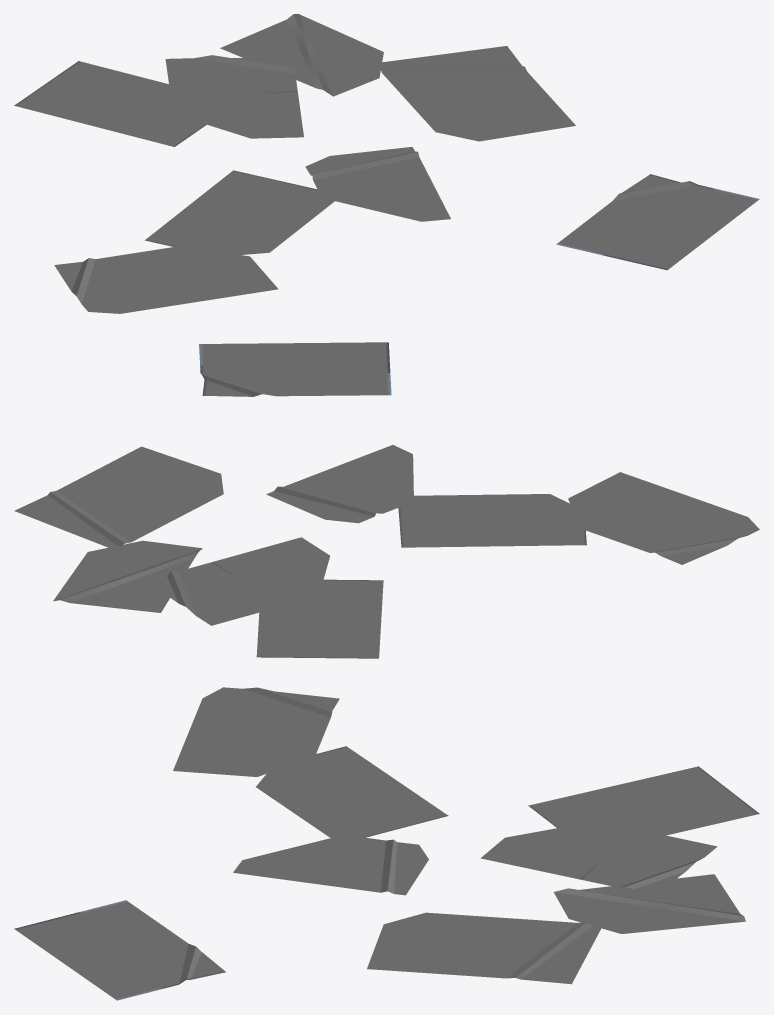
Rendered from SM_Gen_Prop_Papers_05.glb.
3 renders of one model, top to bottom at view 1: azimuth 30°, elevation 25°; view 2: azimuth 150°, elevation 25°; view 3: azimuth 270°, elevation 25°, orthographic. The views are drawn at different scales.
Parts seen in each view (by area): view 1: SM_Gen_Prop_Papers_05; view 2: SM_Gen_Prop_Papers_05; view 3: SM_Gen_Prop_Papers_05.
Boxes of the visible parts, x1=… form: SM_Gen_Prop_Papers_05: x1=14, y1=14, x2=759, y2=313; SM_Gen_Prop_Papers_05: x1=14, y1=342, x2=759, y2=658; SM_Gen_Prop_Papers_05: x1=14, y1=687, x2=759, y2=1000.
Bounding box in the file's own units: 1.34 × 0.00804 × 1.35.
Materials: 1 (1 with a texture image).
